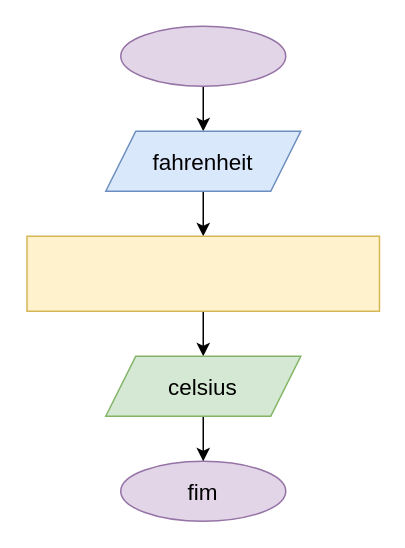
The diagram is 405 pixels wide and 548 high, and some of its shapes have lost their labels. Here are the shapes that lost their labels. From the top down, the box of each, then its label:
(119, 25, 286, 86): início
(26, 235, 380, 311): celsius ← fahrenheit - 32 * 5/9
